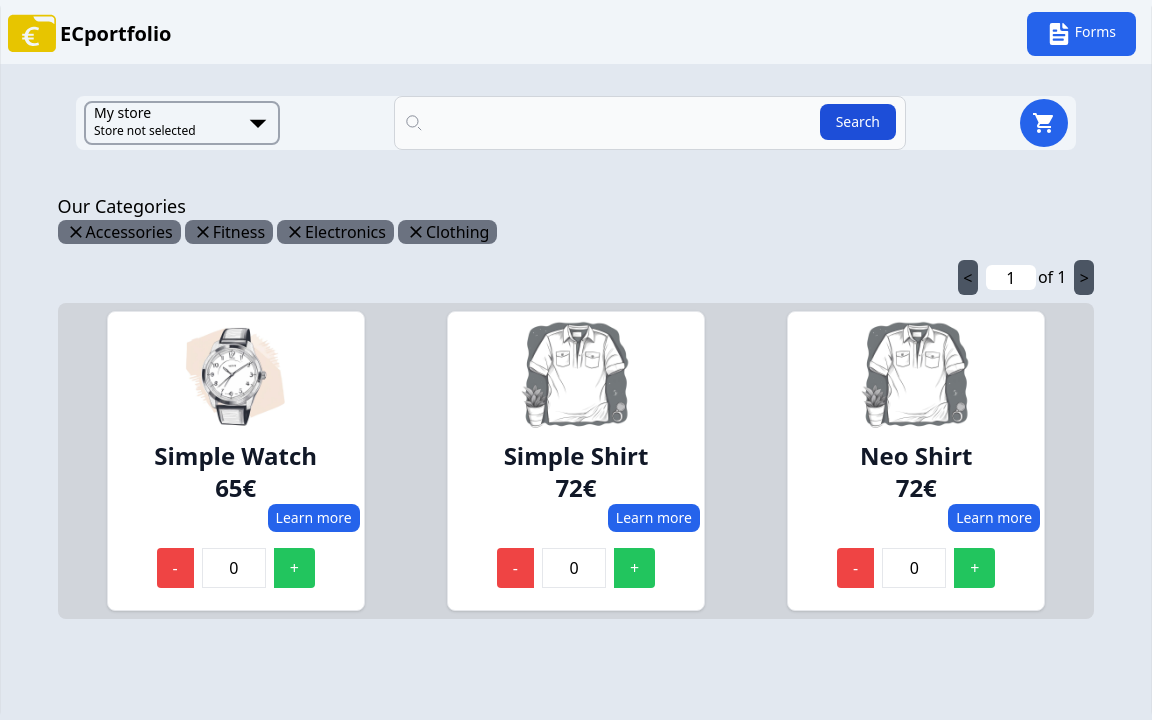
Test: Shop cart test › Buy a product
Click the button "+" below "65€" at (295, 568), box [274,548,315,588]
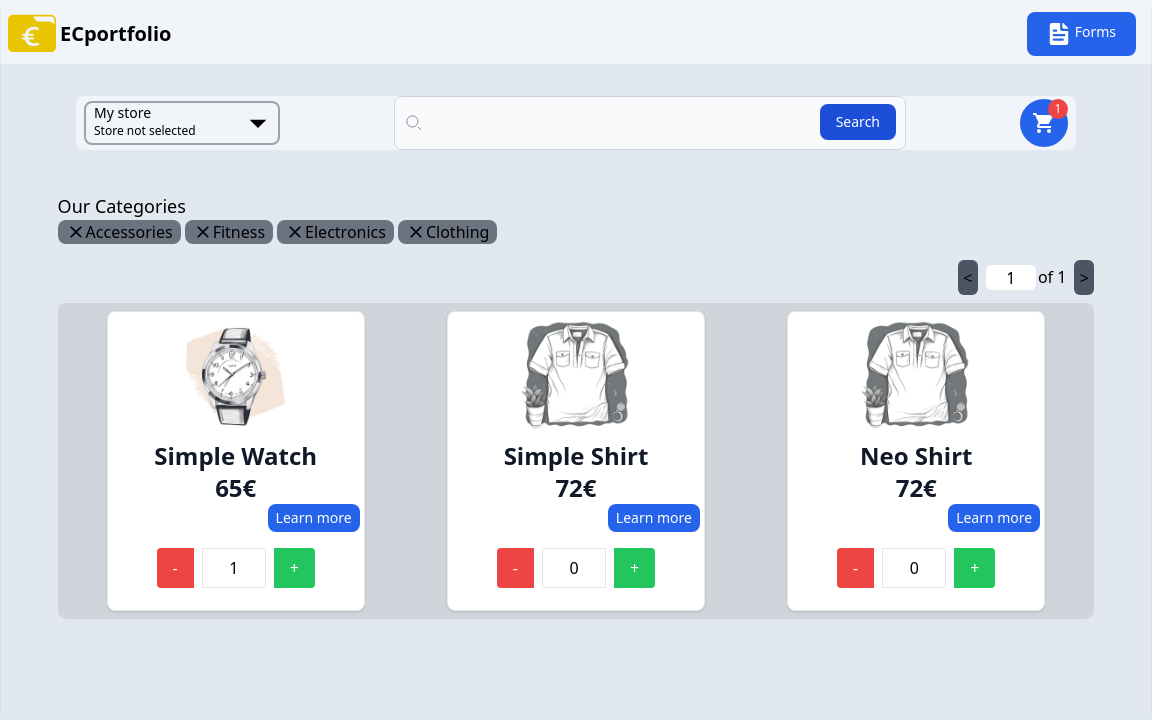
Click the button with id "shoppingCart" at (1044, 123), box [1020,99,1068,147]
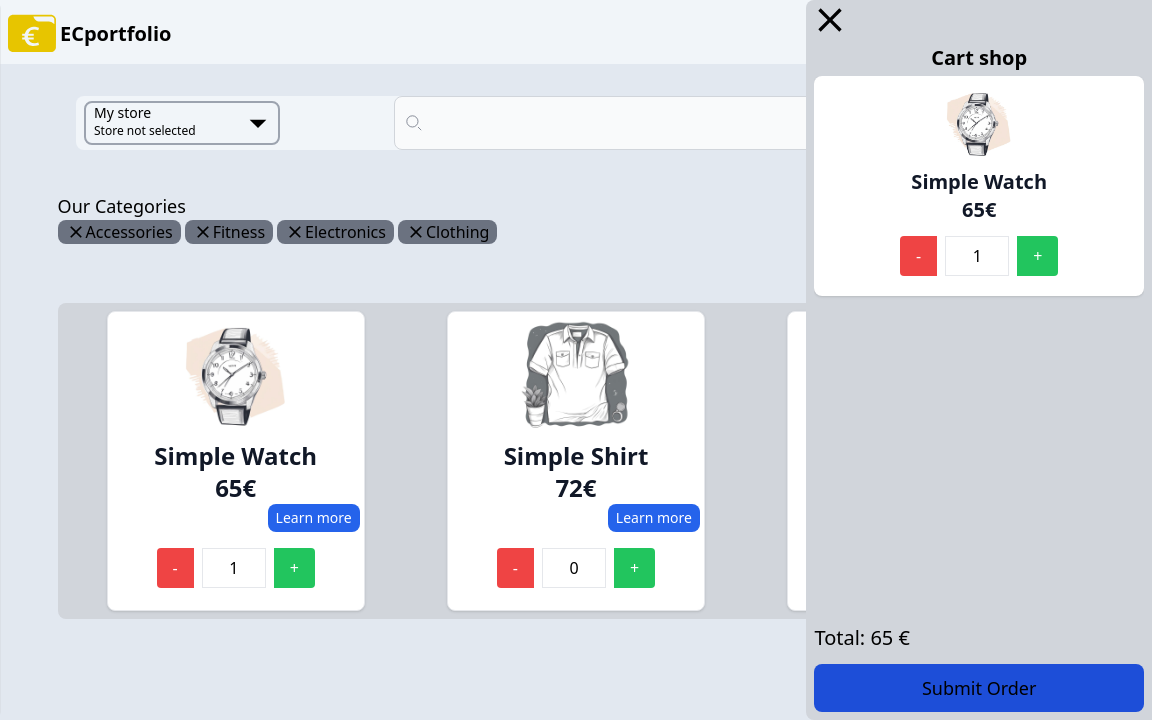
Click the button named "confirmDialogShopButton" at (979, 688), box [814,664,1144,712]
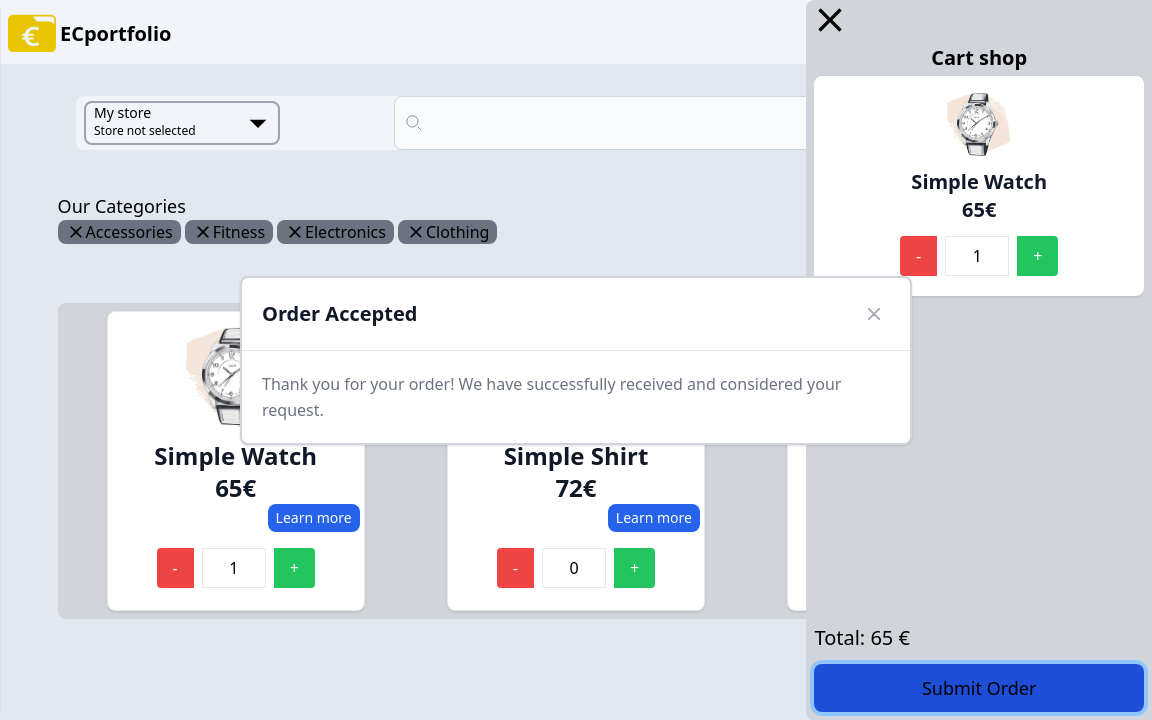
Expected: the element with id "orderConfirmModal" is shown
Click the element with id "orderConfirmModal" at (241, 277), box [240,276,912,445]
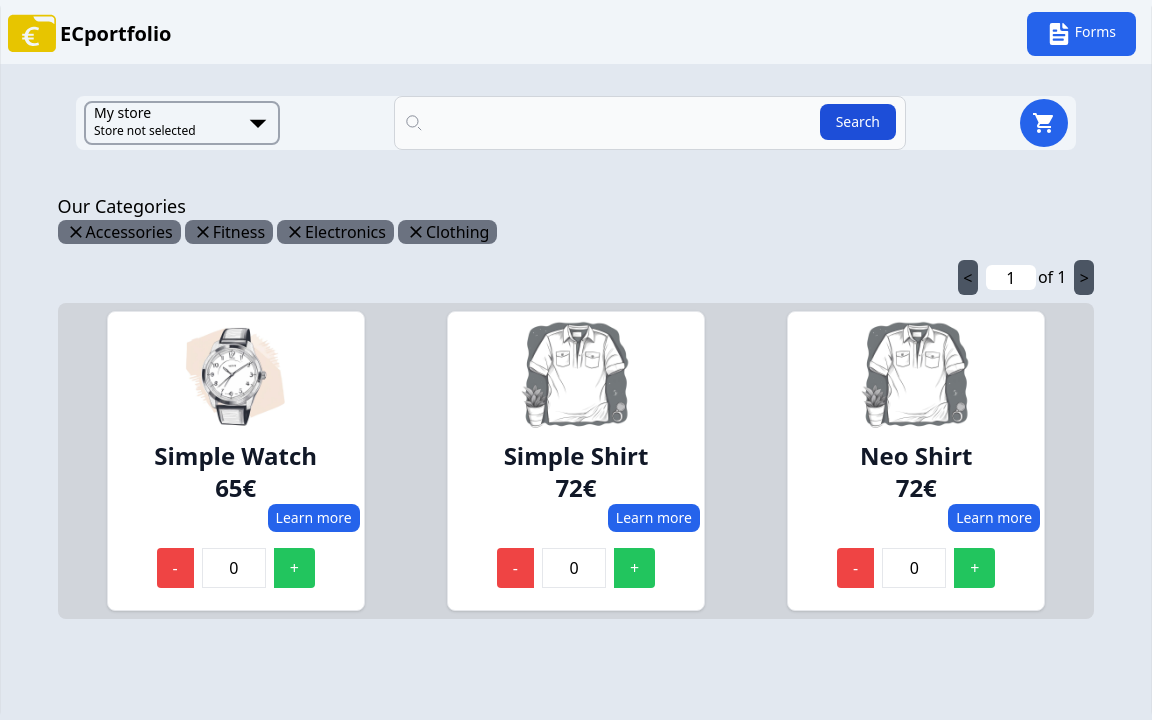
Expected: the element with id "orderConfirmModal" is gone
